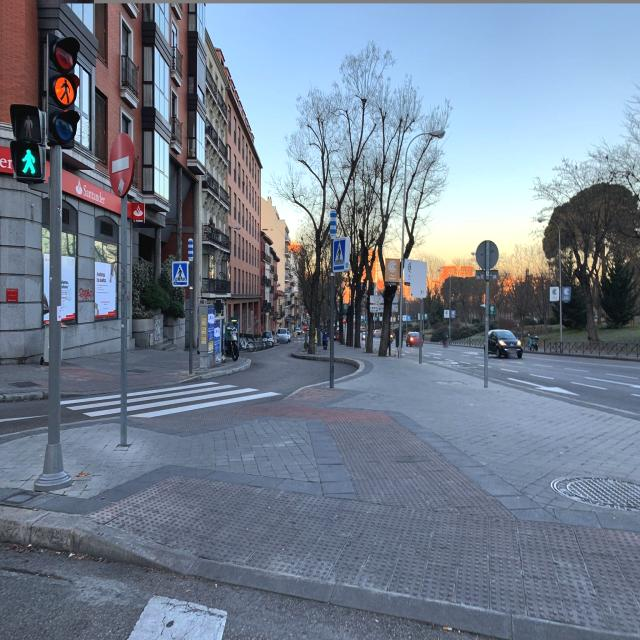bike: (223, 326, 240, 361)
car: (486, 329, 524, 359), (261, 330, 275, 348), (405, 332, 423, 346), (277, 327, 291, 344)
